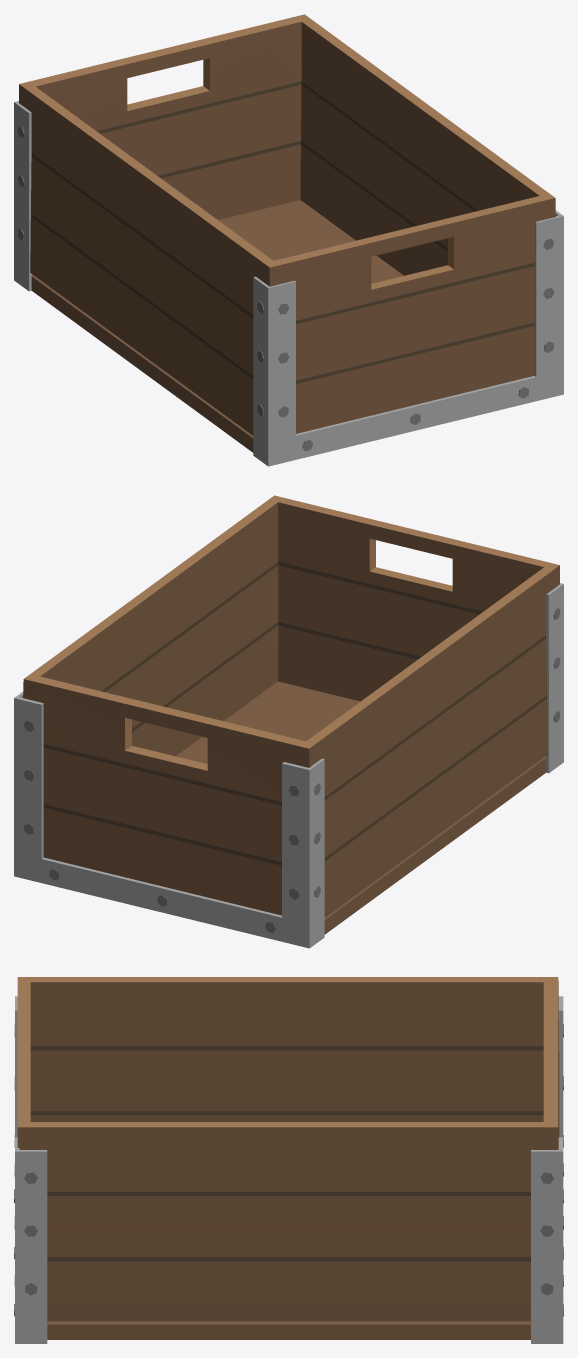
File: SM_crate_5.gltf
The picture shows the model from 3 angles, top to bottom: view 1: azimuth 30°, elevation 25°; view 2: azimuth 150°, elevation 25°; view 3: azimuth 270°, elevation 25°; orthographic projection. The views are drawn at different scales.
Parts seen in each view (by area): view 1: SM_crate_5; view 2: SM_crate_5; view 3: SM_crate_5.
Part boxes in pixels (left/top/right/bottom): SM_crate_5: left=14, top=14, right=563, bottom=466; SM_crate_5: left=14, top=495, right=563, bottom=948; SM_crate_5: left=14, top=977, right=563, bottom=1343.
Bounding box in the file's own units: 0.6912 × 0.4388 × 1.03.
1 material, 1 textured.
